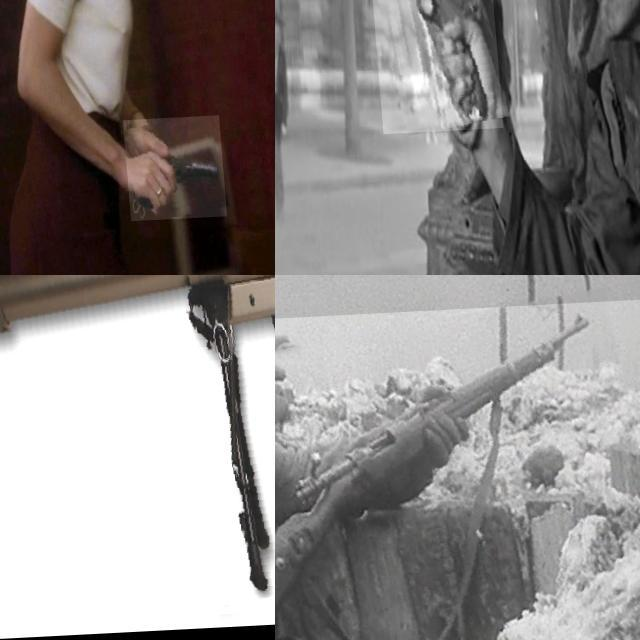gun-knife-thesis - v11 Yolov5 augmented: (275, 305, 640, 640), (0, 275, 275, 628), (361, 0, 496, 136), (115, 120, 218, 224)
